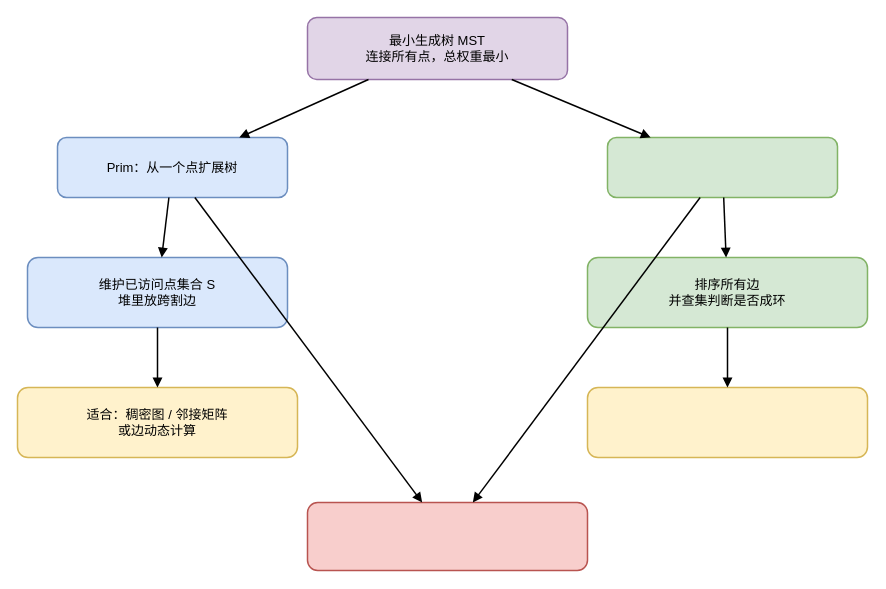
Image size: 886x589. Some labels were removed from this diagram. Each missing label, with the centre of its shape:
Kruskal：从最小边开始选: [722,167]
共同依据：Cut Property 跨割最小边是安全边: [447,536]
适合：稀疏图 / 边列表输入 实现直接: [727,422]
